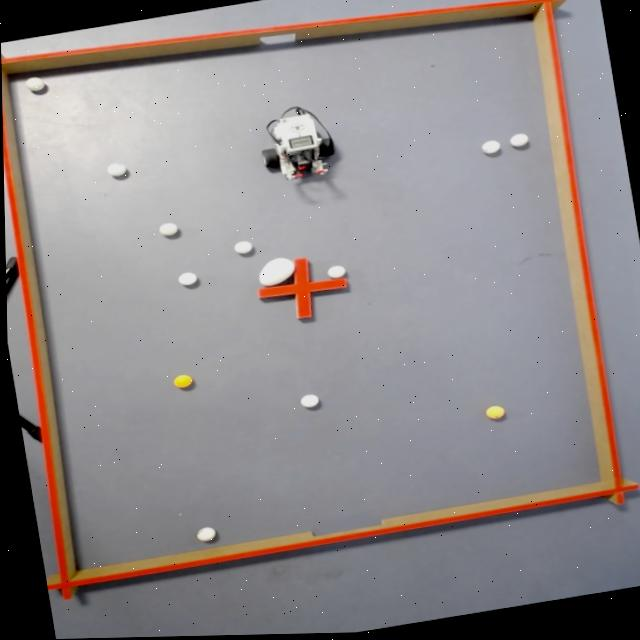boundaries: (1, 0, 640, 600), (7, 13, 600, 569)
cross: (256, 256, 349, 319)
egg: (256, 254, 298, 287)
large_goal: (302, 517, 391, 548)
orange_ball: (171, 371, 194, 390), (484, 402, 507, 421)
robot: (254, 100, 340, 185)
small_goal: (247, 21, 306, 49)
white_ball: (193, 523, 218, 543), (478, 137, 503, 156), (23, 74, 47, 92), (298, 391, 321, 409), (508, 130, 531, 148), (177, 269, 199, 287), (232, 237, 255, 254), (105, 160, 127, 177), (157, 220, 179, 237), (326, 263, 347, 279)
